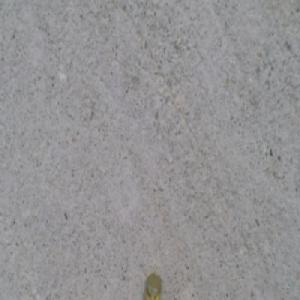BoltNutSet: (144, 274, 162, 299)
